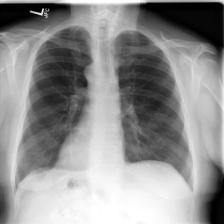normal: (13, 21, 198, 195)
